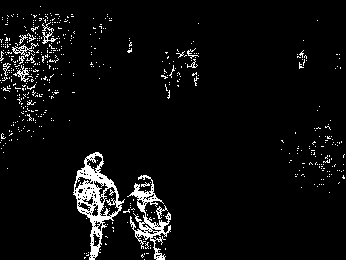person: (72, 151, 121, 260), (120, 173, 175, 260)
